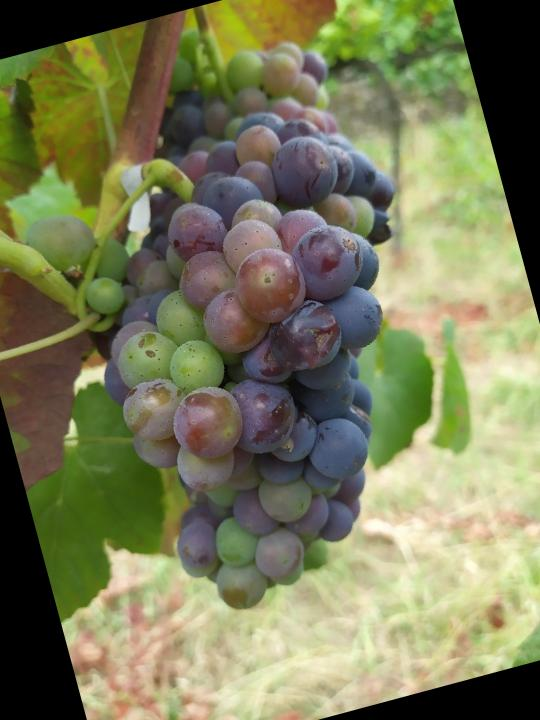grape: (43, 89, 461, 633)
